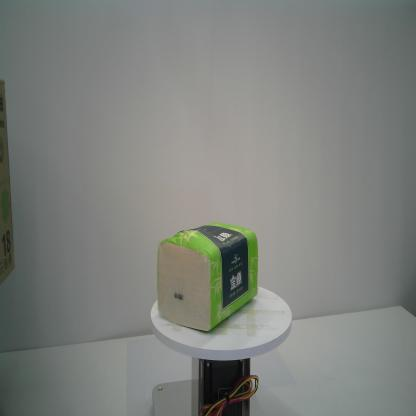Tissue: (154, 220, 259, 334)
